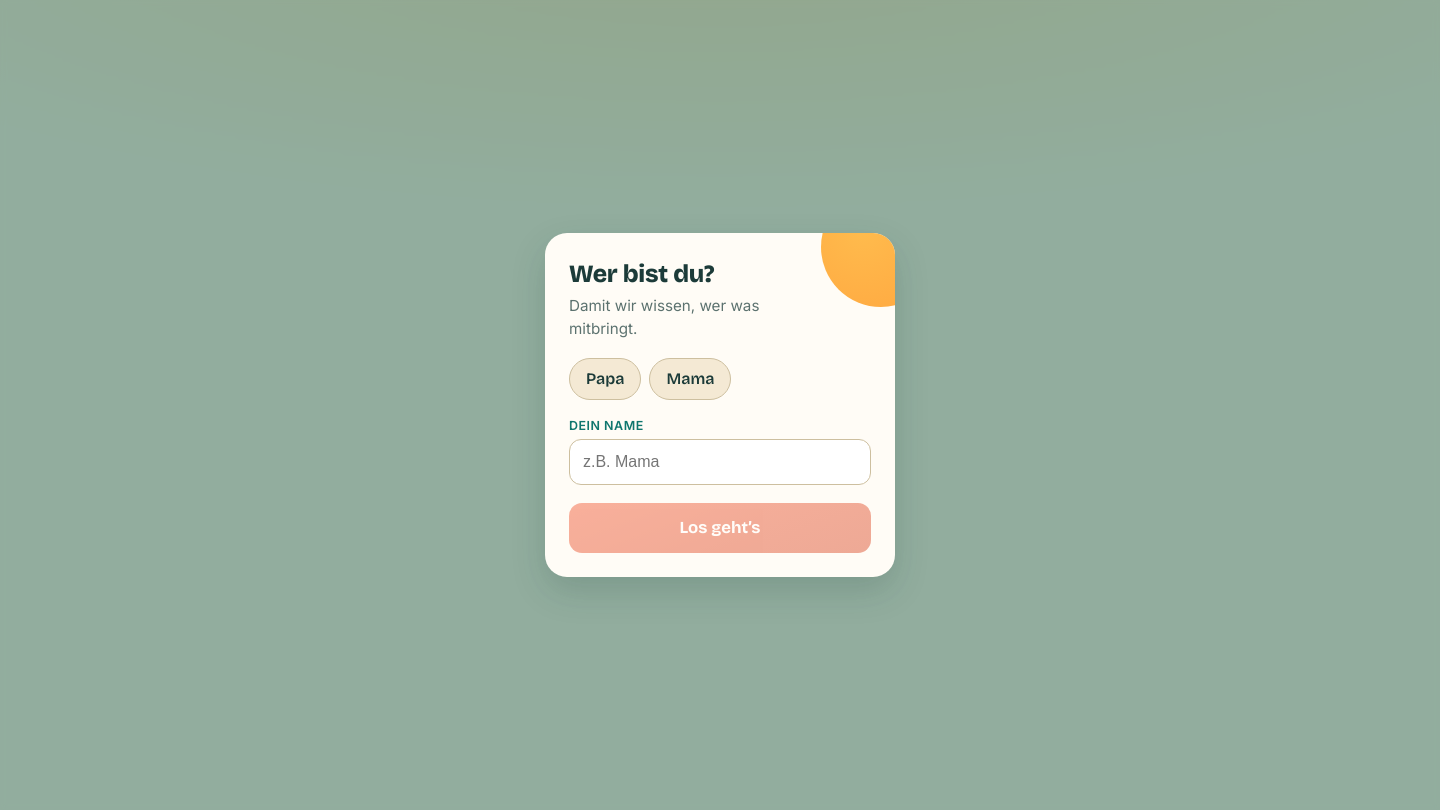
it: App › filters to only the current user's items with "Nur meine"
Click the button "Papa": (605, 378) [569,358,642,400]
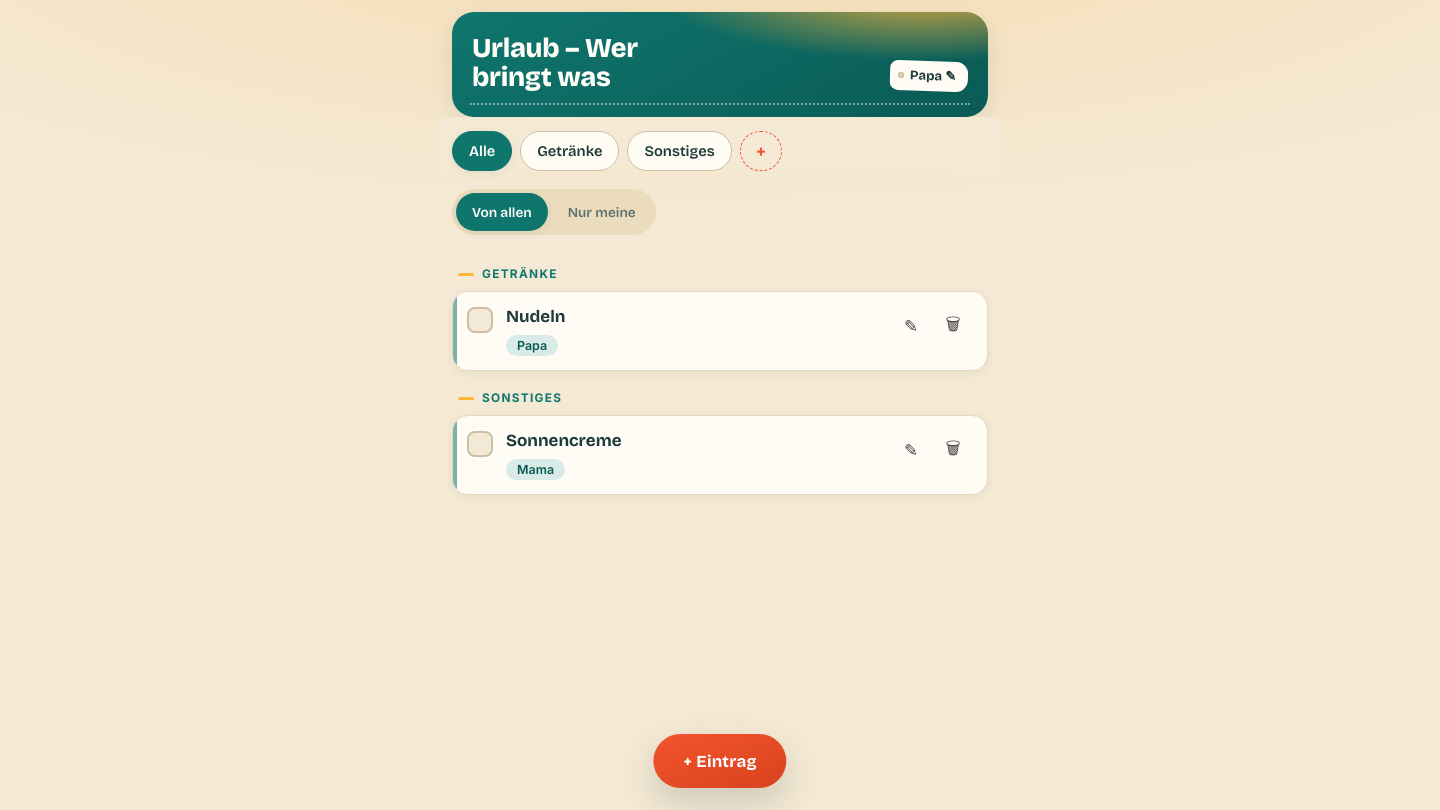
Expected: the text "Nudeln" is shown, [506,306,565,327]
Expected: the text "Sonnencreme" is shown, [506,430,621,451]
Click the button "Nur meine": (602, 212) [552,193,652,231]
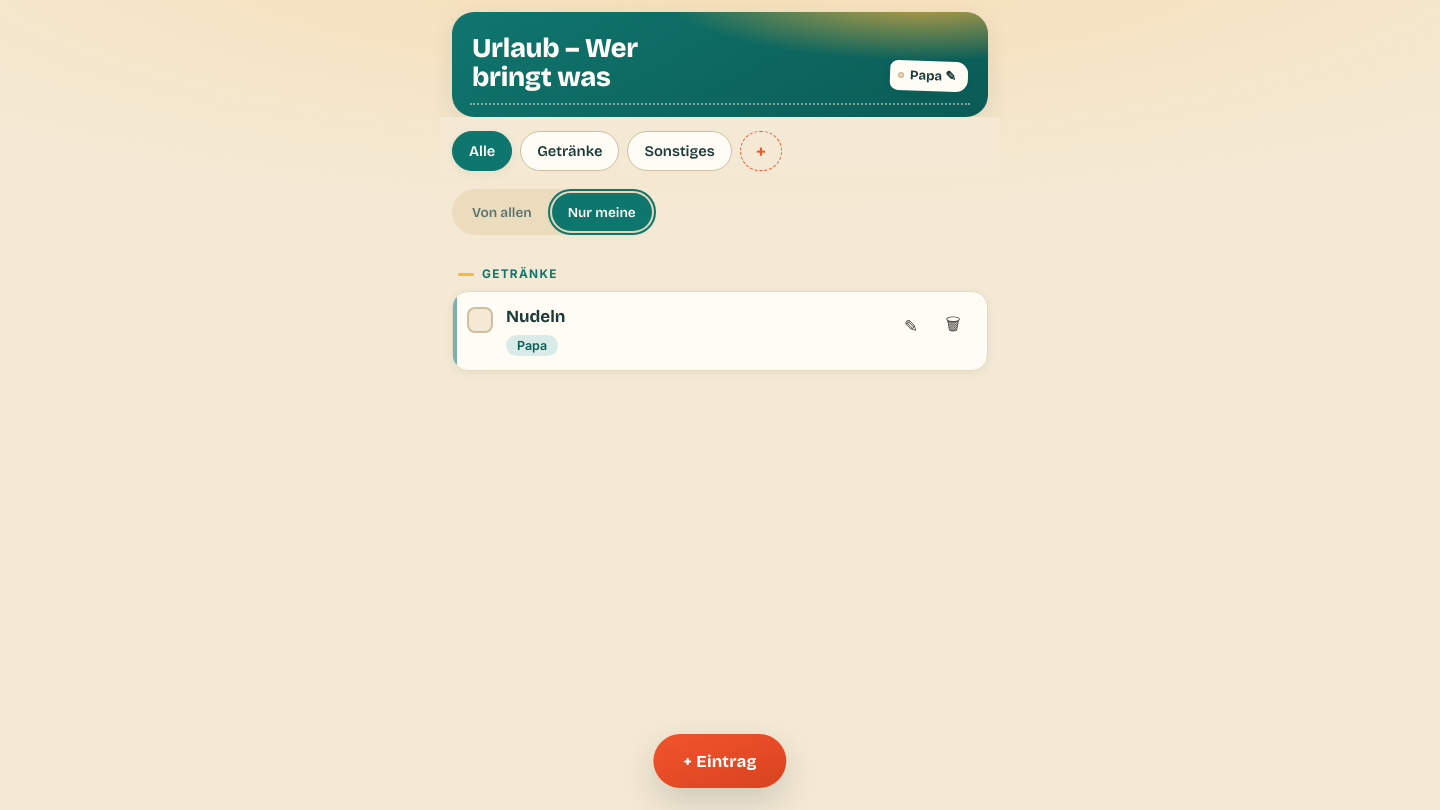
Expected: the text "Nudeln" is shown, [506,306,565,327]
Expected: the text "Sonnencreme" is gone
Click the button "Von allen": (502, 212) [456,193,548,231]
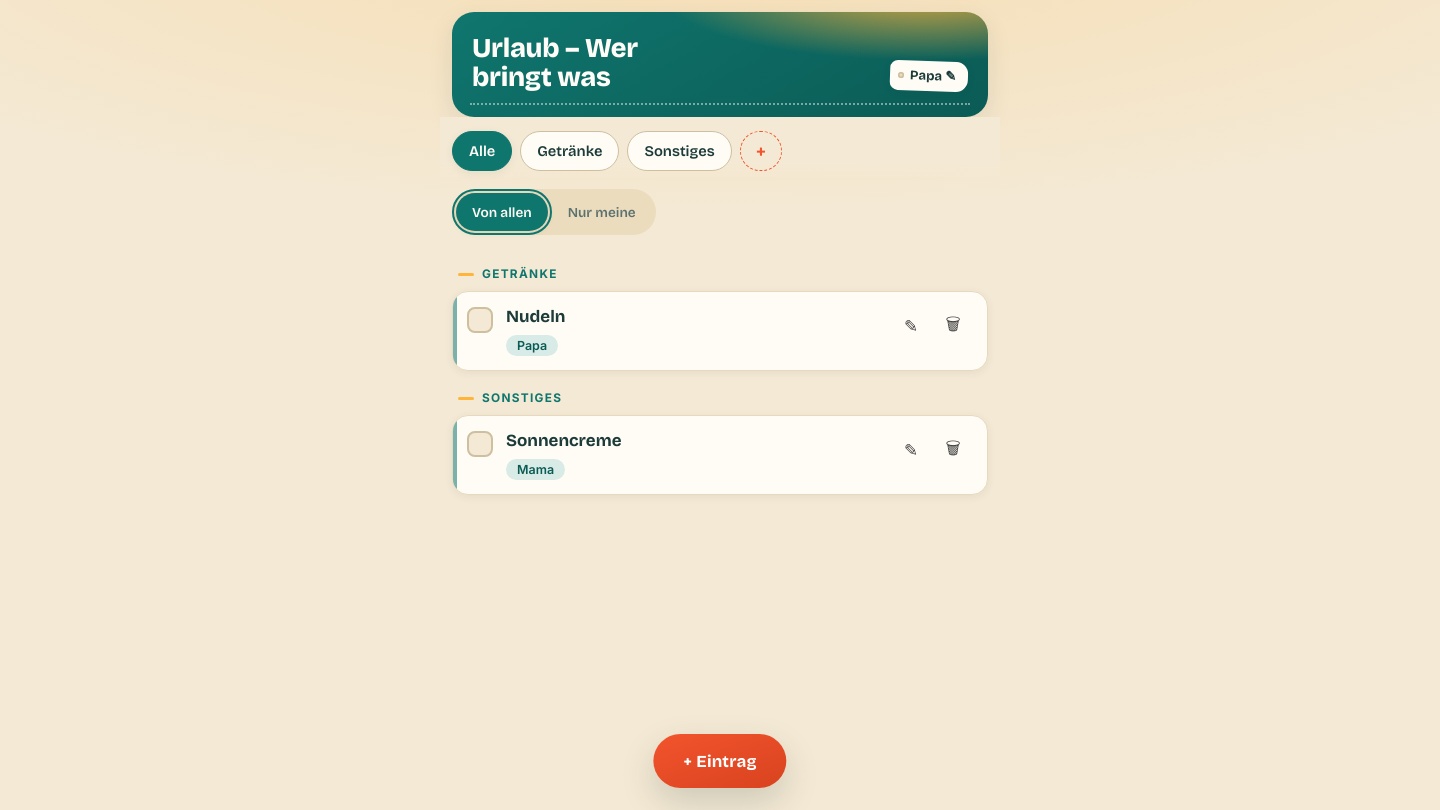
Expected: the text "Sonnencreme" is shown, [506,430,621,451]
